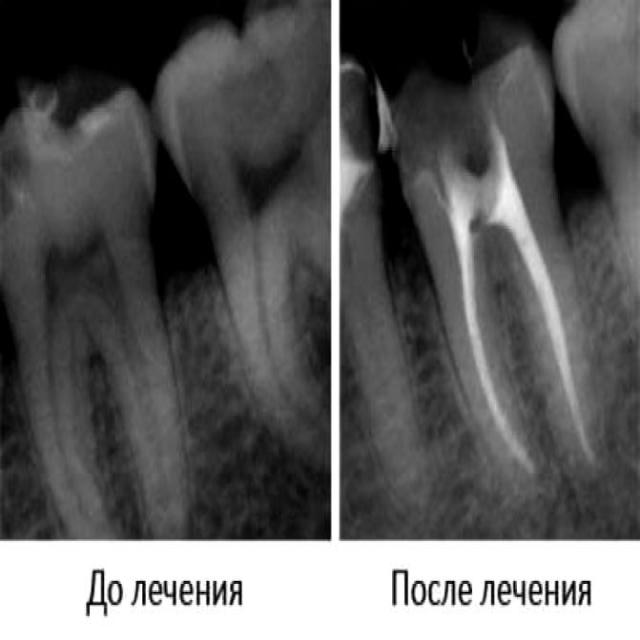Caries: (392, 28, 554, 530)
